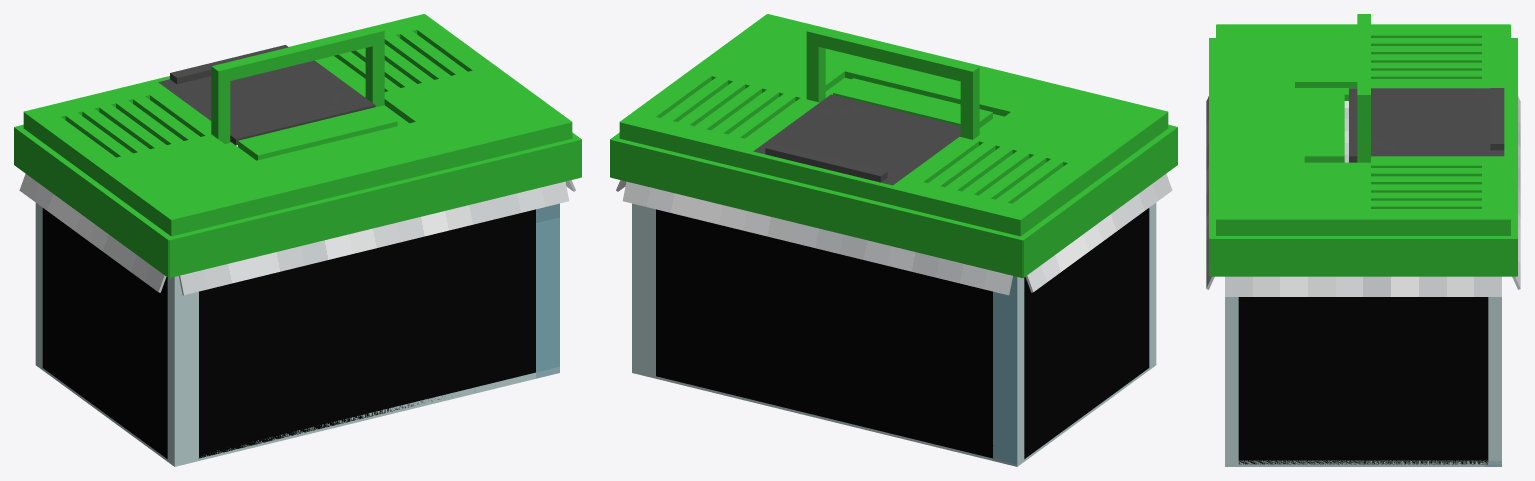
The model's file is msk.gltf.
3 renders of one model, left to right at view 1: azimuth 30°, elevation 25°; view 2: azimuth 150°, elevation 25°; view 3: azimuth 270°, elevation 25°, orthographic.
Parts seen in each view (by area): view 1: cube; view 2: cube; view 3: cube.
Part boxes in pixels (x1,y1,x2,y2): cube: (14, 14, 581, 466); cube: (610, 14, 1177, 466); cube: (1206, 14, 1520, 466).
Size of the model in its own units: 1.08 by 0.7938 by 0.7087.
9 materials, 9 textured.
